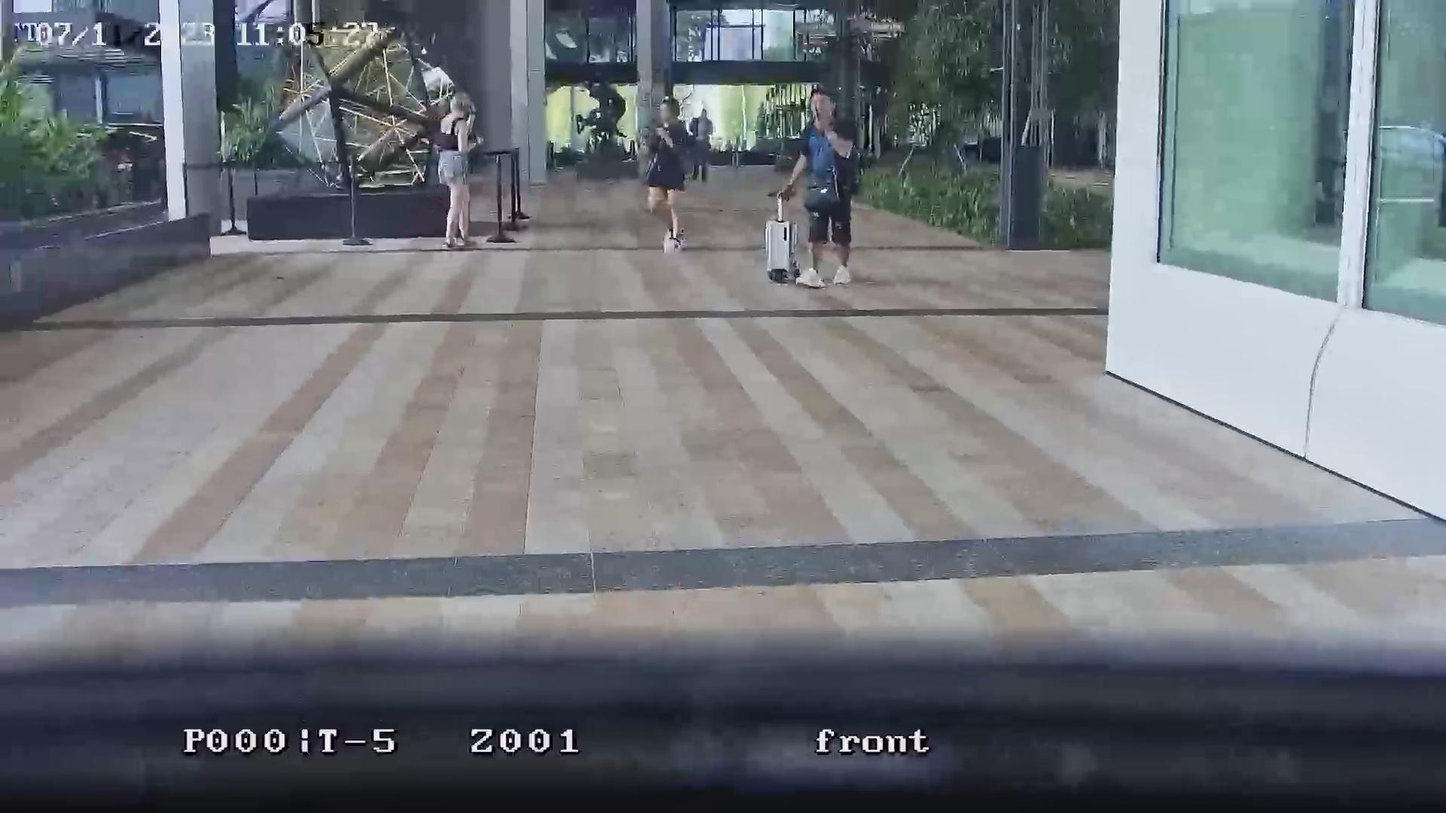person: (773, 86, 859, 288), (642, 96, 693, 252), (436, 93, 482, 250), (689, 108, 714, 183)
